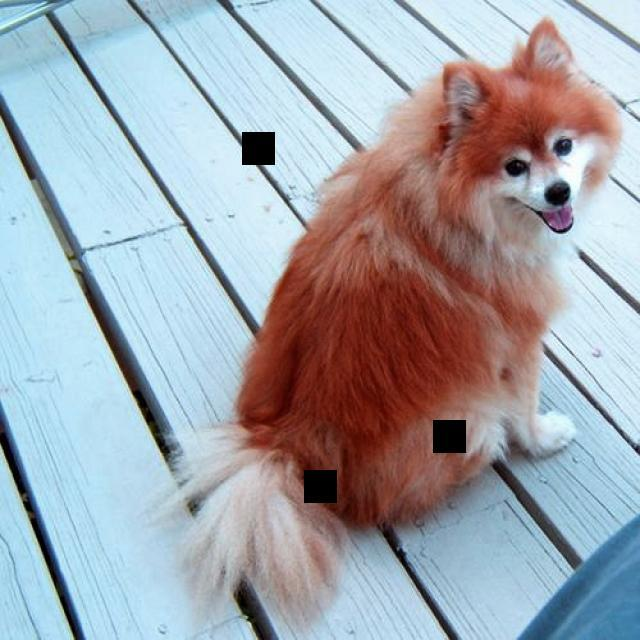adult_dog: (162, 16, 624, 628)
